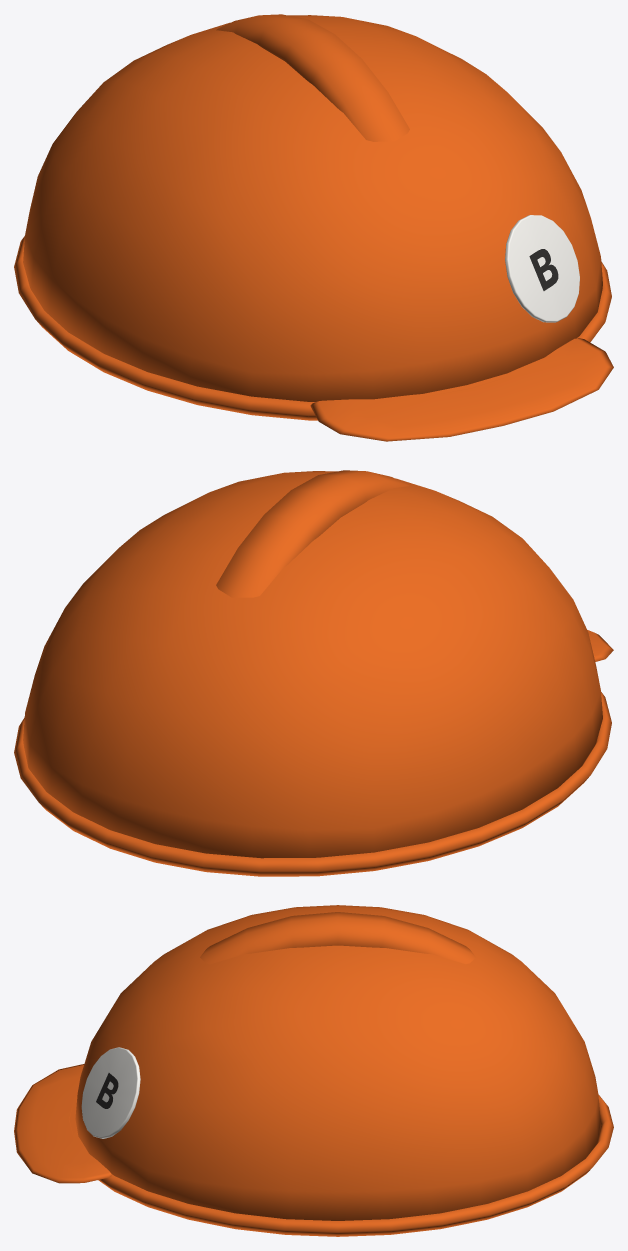
File: hard-hat-orange.glb
3 views of the same model, one above another, from view 1: azimuth 30°, elevation 25°; view 2: azimuth 150°, elevation 25°; view 3: azimuth 270°, elevation 25° (orthographic). The views are drawn at different scales.
Visible parts, largest first — view 1: hard-hat-orange; view 2: hard-hat-orange; view 3: hard-hat-orange.
Boxes of the visible parts, left/top/right/bottom form: hard-hat-orange: left=14, top=14, right=613, bottom=441; hard-hat-orange: left=14, top=470, right=613, bottom=876; hard-hat-orange: left=14, top=905, right=613, bottom=1236.
Size of the model in its own units: 0.7144 by 0.3472 by 0.8675.
